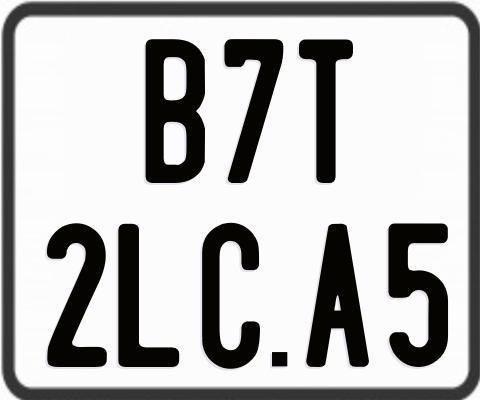2: (47, 220, 108, 369)
5: (386, 223, 448, 373)
7: (224, 37, 289, 183)
A: (306, 223, 374, 370)
B: (144, 38, 207, 183)
C: (199, 222, 262, 371)
L: (118, 224, 185, 369)
T: (296, 37, 354, 187)
